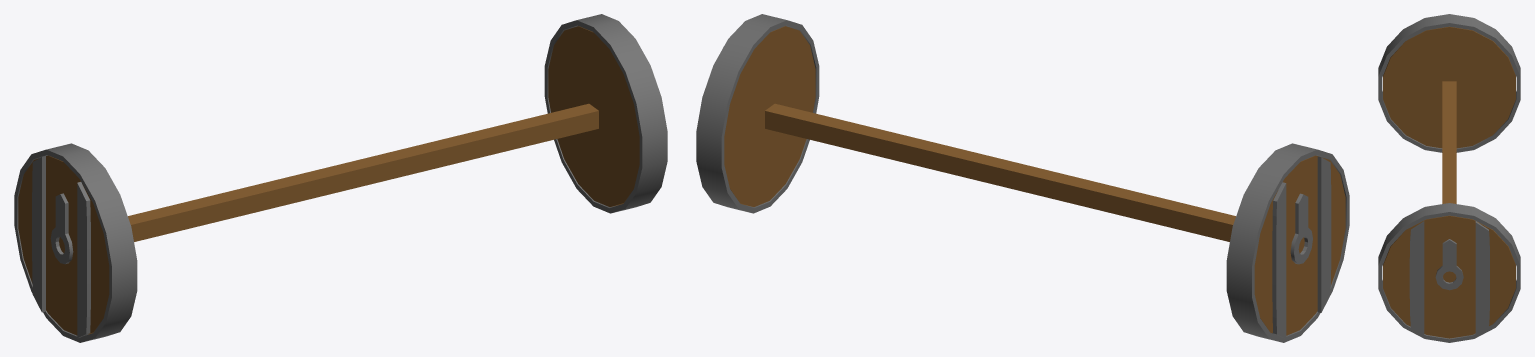
The model's file is SM_catapult_part_03.fbx.
3 views of the same model, side by side, from view 1: azimuth 30°, elevation 25°; view 2: azimuth 150°, elevation 25°; view 3: azimuth 270°, elevation 25° (orthographic). The views are drawn at different scales.
Visible parts, largest first — view 1: catapult_part_03; view 2: catapult_part_03; view 3: catapult_part_03.
Part boxes in pixels (bbox=[...]): catapult_part_03: bbox=[14, 14, 667, 342]; catapult_part_03: bbox=[696, 14, 1349, 342]; catapult_part_03: bbox=[1378, 14, 1520, 342].
Bounding box in the file's own units: 210 × 64.21 × 63.23.
